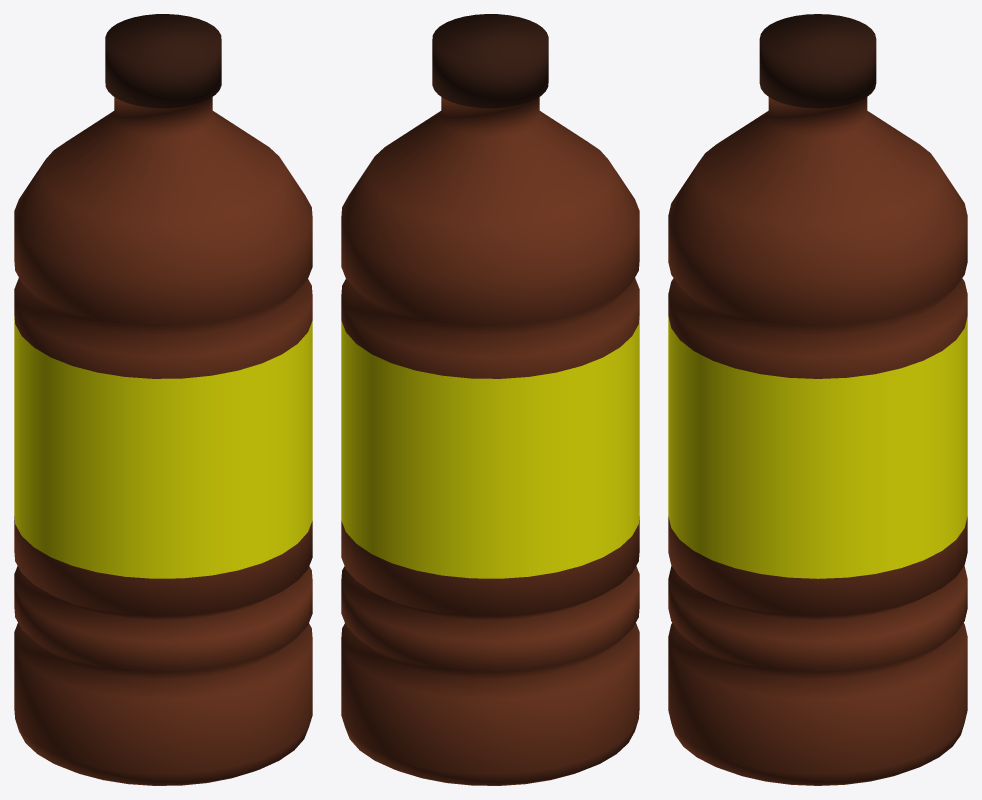
The model's file is TruffleOil.fbx.
3 views of the same model, side by side, from view 1: azimuth 30°, elevation 25°; view 2: azimuth 150°, elevation 25°; view 3: azimuth 270°, elevation 25° (orthographic).
Parts seen in each view (by area): view 1: TruffleOilMesh; view 2: TruffleOilMesh; view 3: TruffleOilMesh.
Boxes of the visible parts, left/top/right/bottom form: TruffleOilMesh: left=14, top=14, right=312, bottom=785; TruffleOilMesh: left=341, top=14, right=639, bottom=785; TruffleOilMesh: left=668, top=14, right=967, bottom=785.
Size of the model in its own units: 0.2541 by 0.6463 by 0.2541.
